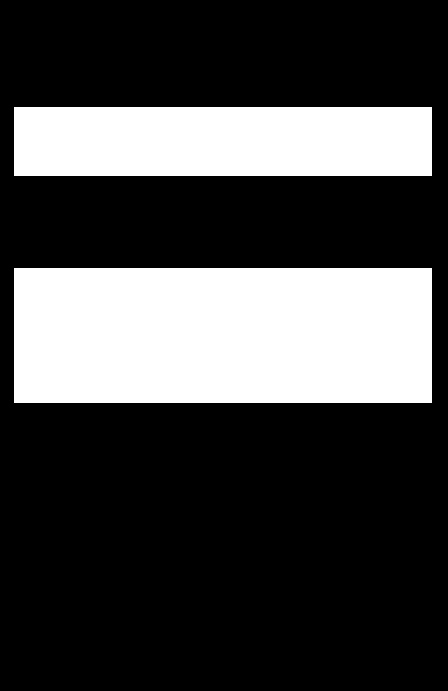table: (14, 268, 431, 402), (14, 107, 431, 175)
